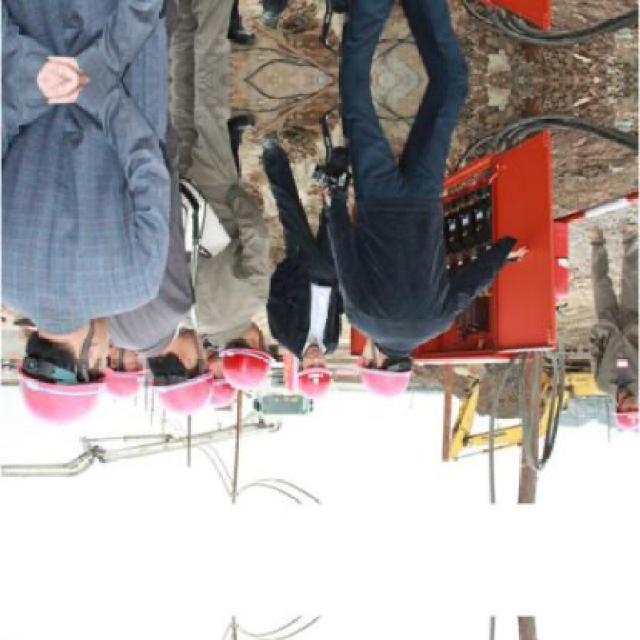con casco: (0, 289, 117, 440), (159, 332, 241, 412), (355, 326, 447, 393), (220, 320, 288, 389), (296, 356, 357, 410)
